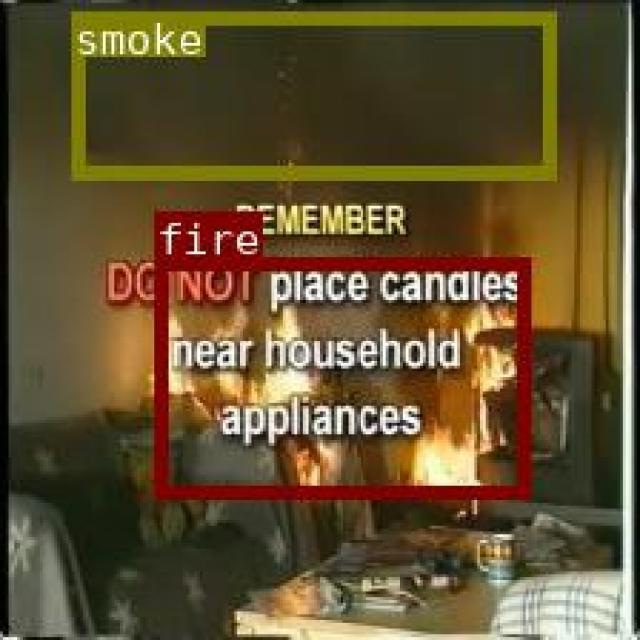fire: (152, 257, 526, 497)
smoke: (69, 10, 554, 175)
